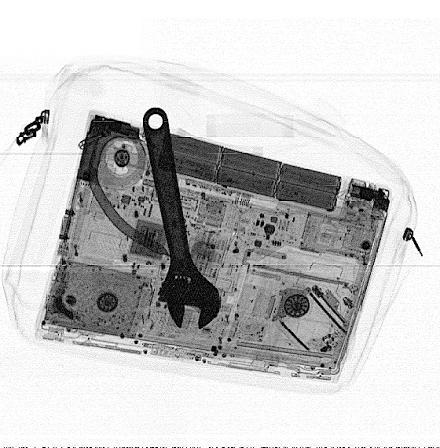Wrench: (141, 104, 222, 335)
